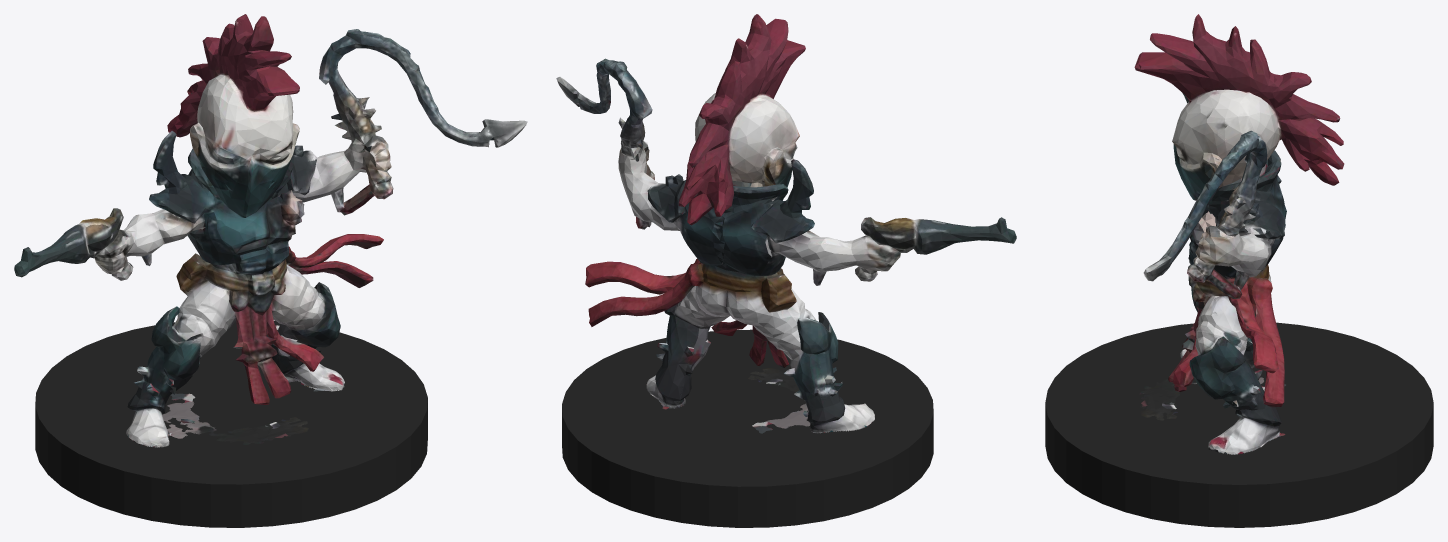
Rendered from ha-crimson-duellist.glb.
3 views of the same model, side by side, from view 1: azimuth 30°, elevation 25°; view 2: azimuth 150°, elevation 25°; view 3: azimuth 270°, elevation 25° (orthographic). The views are drawn at different scales.
Parts seen in each view (by area): view 1: figure, base; view 2: figure, base; view 3: base, figure.
Boxes of the visible parts, bbox=[...] form: figure: bbox=[14, 14, 527, 447]; base: bbox=[35, 320, 427, 527]; figure: bbox=[556, 14, 1016, 433]; base: bbox=[562, 329, 933, 527]; base: bbox=[1045, 322, 1433, 527]; figure: bbox=[1134, 14, 1344, 454].
Size of the model in its own units: 1.44 by 1.22 by 0.9843.
Materials: 2 (1 with a texture image).
